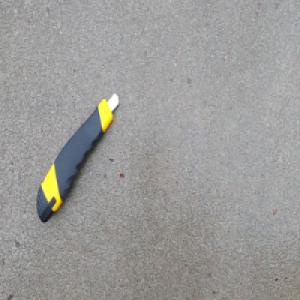Cutter: (36, 91, 120, 224)
